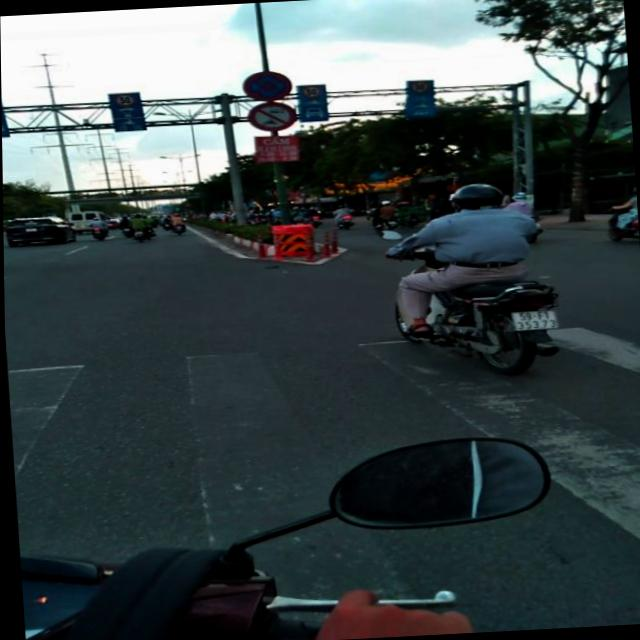Cam dung xe va do xe: (240, 70, 293, 102)
Toc do toi da cho phep: (113, 93, 136, 108), (409, 80, 432, 94), (301, 85, 322, 98)
